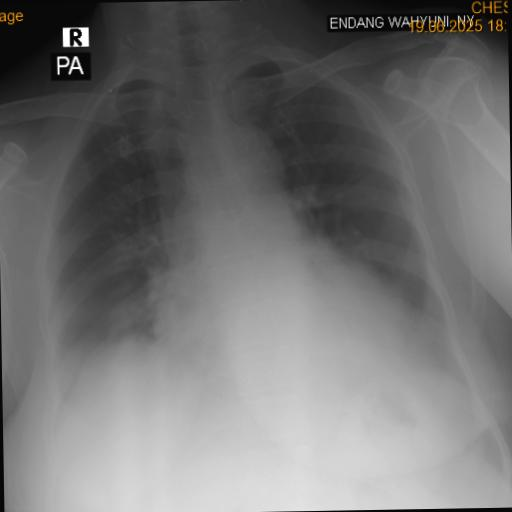kardiomegali: (16, 44, 471, 422)
